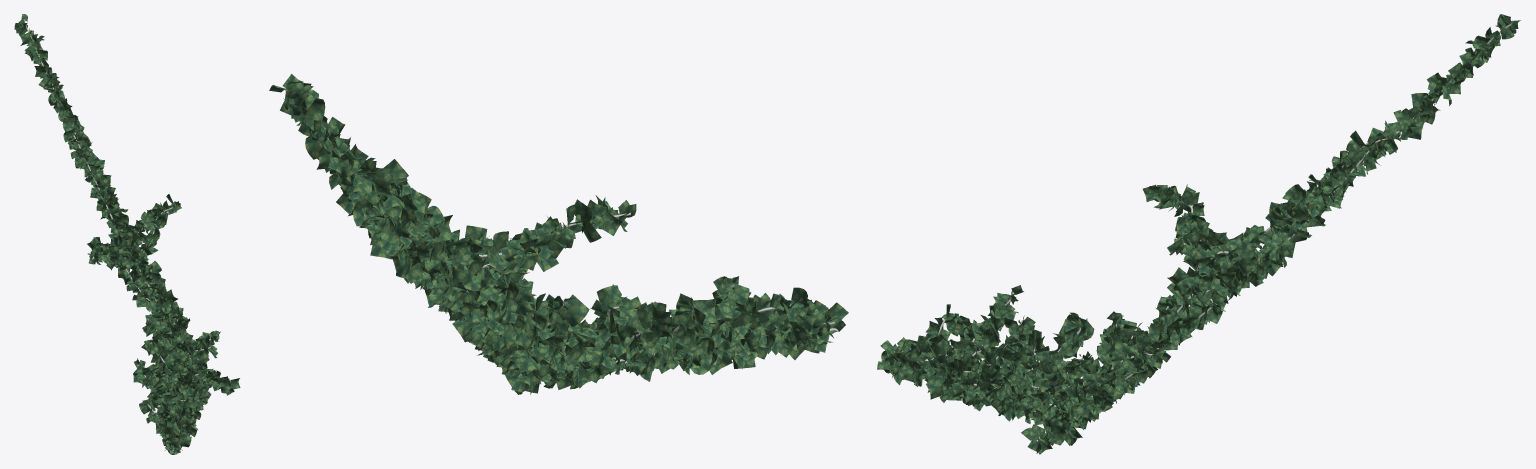
Rendered from SM_Ivy_01.fbx.
The picture shows the model from 3 angles, left to right: view 1: azimuth 30°, elevation 25°; view 2: azimuth 150°, elevation 25°; view 3: azimuth 270°, elevation 25°; orthographic projection. The views are drawn at different scales.
Visible parts, largest first — view 1: SM_Ivy_01_LOD0; view 2: SM_Ivy_01_LOD0; view 3: SM_Ivy_01_LOD0.
Boxes of the visible parts, x1,y1,x2,y2 form: SM_Ivy_01_LOD0: (14,14,240,454); SM_Ivy_01_LOD0: (269,74,848,394); SM_Ivy_01_LOD0: (877,14,1520,454).
Size of the model in its own units: 220 by 615 by 433.
2 materials, 1 textured.
